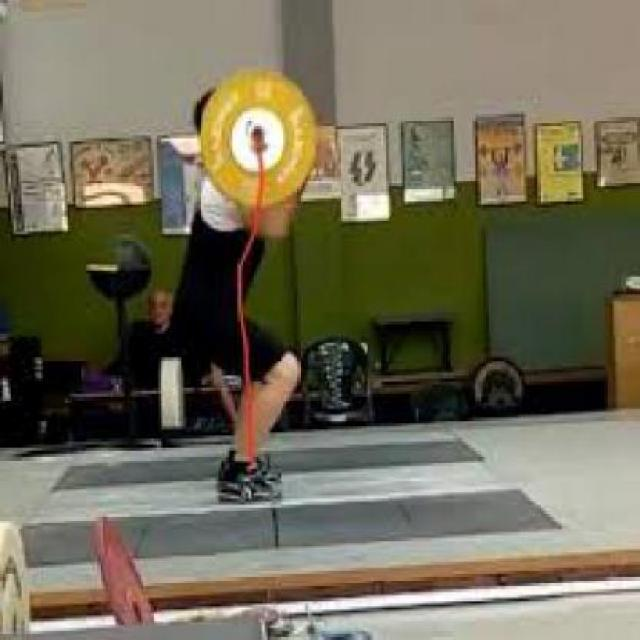Barbell: (249, 124, 269, 150)
